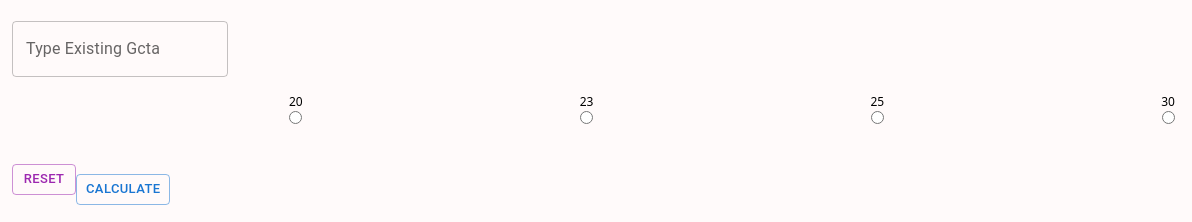
Test case: HiddenComponent › resets form when Reset button is clicked
The width and height of the screenshot is (1192, 222).
Type "100" into the field labelled "Type Existing Gcta" at (120, 49), box [12,21,228,77]
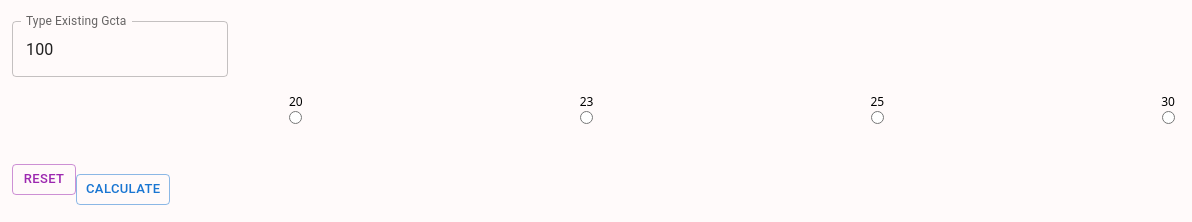
Click the radio button labelled "20" at (296, 118), box [289,111,302,124]
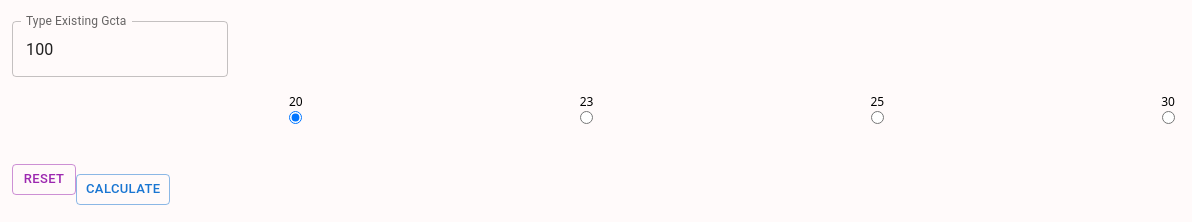
Click the button "Reset" at (44, 179), box [12,164,76,195]
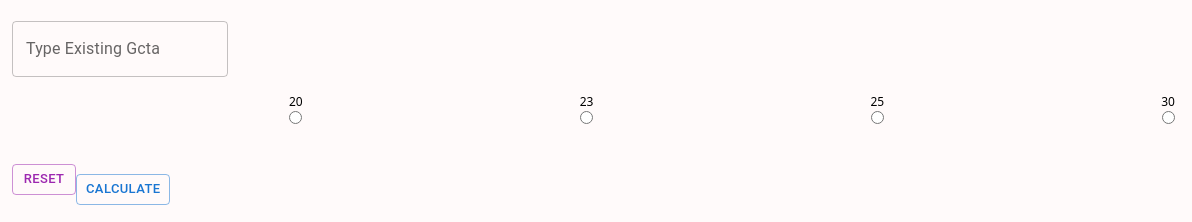
Check: the radio button labelled "20" is not checked, box [289,111,302,124]
Check: the field labelled "Type Existing Gcta" is empty, box [12,21,228,77]
